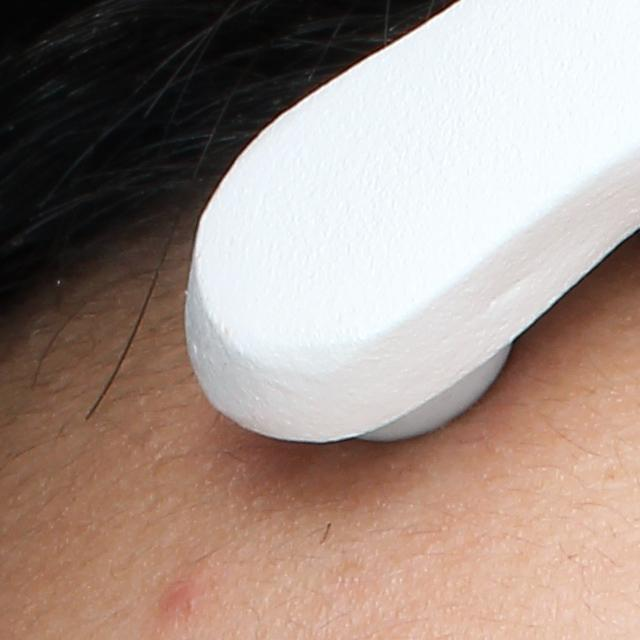papule: (157, 569, 214, 622)
